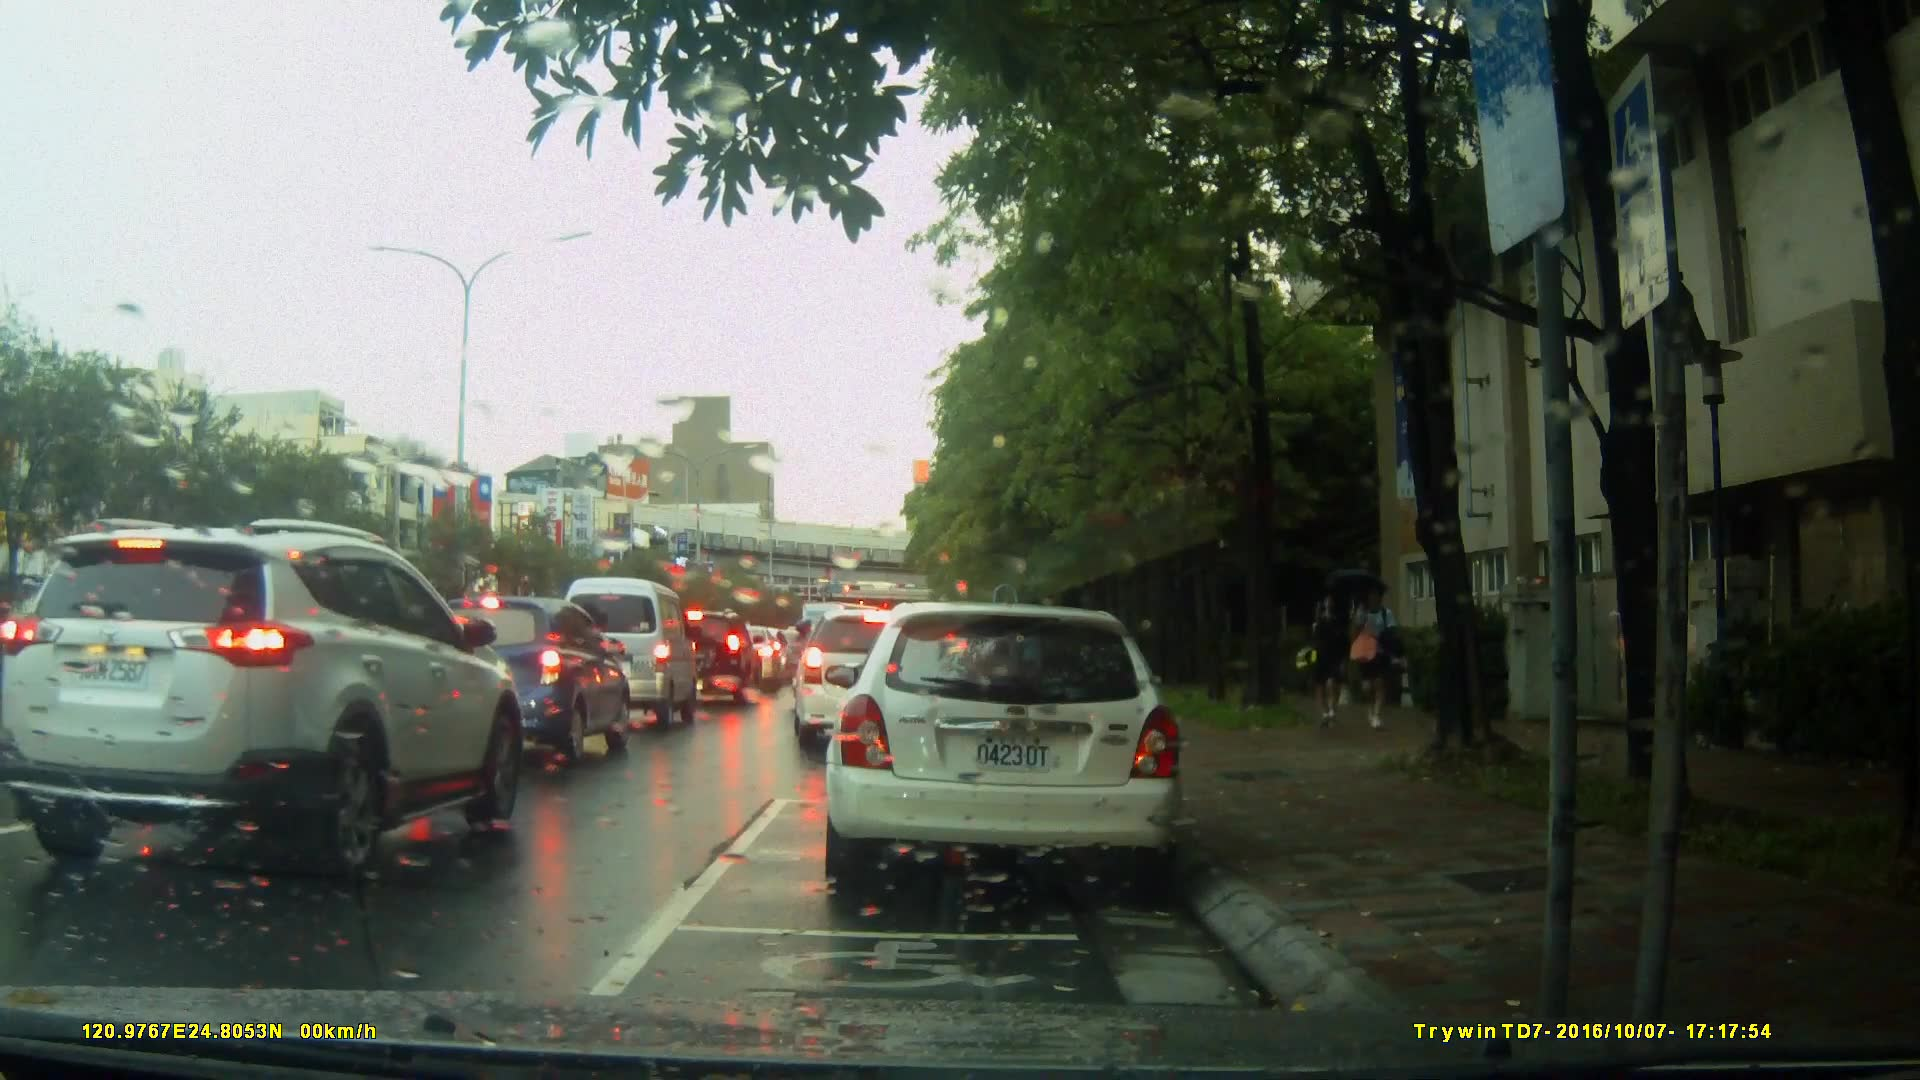pedestrian: (1290, 589, 1357, 731), (1345, 575, 1404, 735)
rider: (786, 610, 832, 709)
vehicle: (26, 516, 517, 889), (815, 593, 1204, 909), (407, 594, 634, 768), (547, 573, 698, 737), (793, 605, 953, 752), (651, 608, 764, 707)
